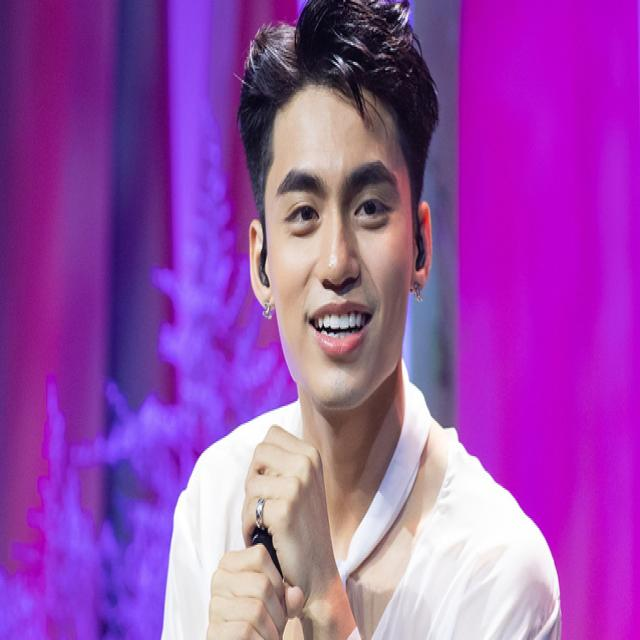Nonhelmet: (231, 2, 443, 414)
